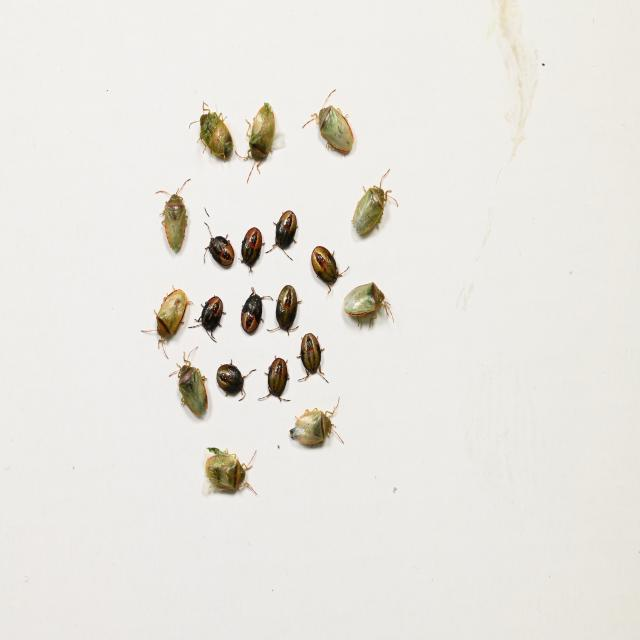stinkbug: (138, 283, 192, 362), (301, 84, 356, 158), (350, 166, 399, 243), (204, 440, 260, 507), (235, 97, 276, 184), (167, 345, 213, 421), (286, 395, 346, 451), (187, 99, 234, 169), (155, 174, 193, 256), (342, 280, 394, 334)
